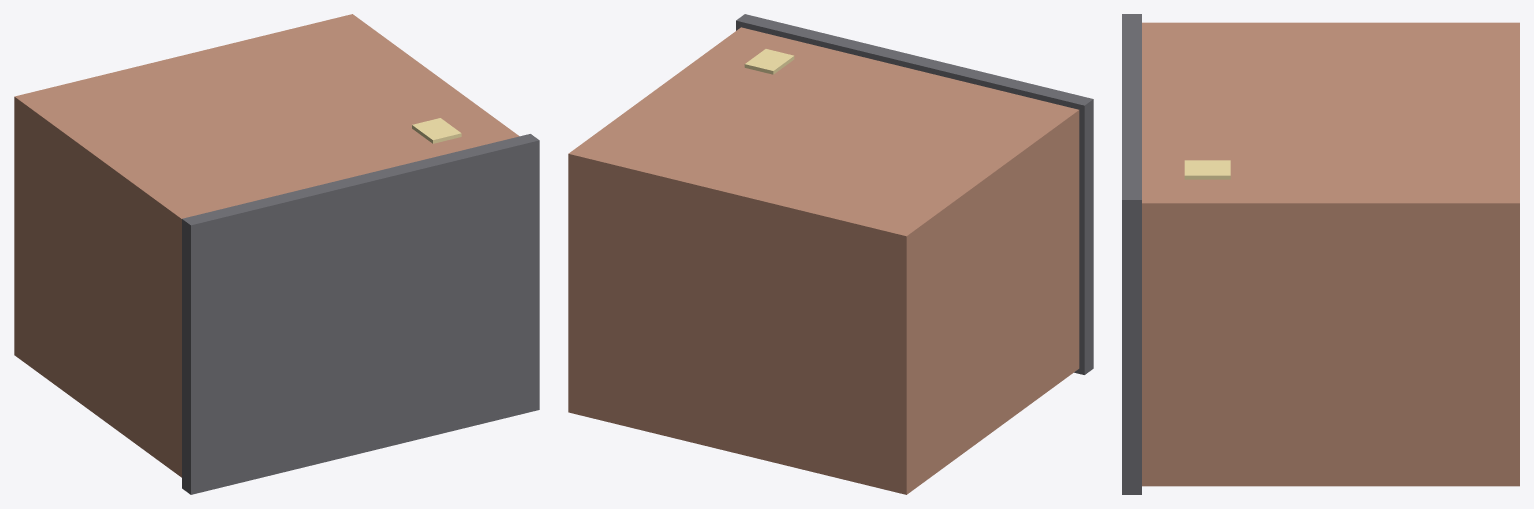
Rendered from building_brick_shop.glb.
3 renders of one model, left to right at view 1: azimuth 30°, elevation 25°; view 2: azimuth 150°, elevation 25°; view 3: azimuth 270°, elevation 25°, orthographic. The views are drawn at different scales.
Visible parts, largest first — view 1: roof_cap, building_body, window; view 2: building_body, roof_cap, window; view 3: building_body, roof_cap, window.
Part boxes in pixels (x1,y1,x2,y2): roof_cap: [182, 134, 539, 494]; building_body: [14, 14, 519, 477]; window: [412, 118, 461, 143]; building_body: [568, 27, 1079, 494]; roof_cap: [736, 14, 1093, 374]; window: [744, 49, 794, 74]; building_body: [1142, 22, 1519, 486]; roof_cap: [1122, 14, 1141, 494]; window: [1184, 160, 1230, 179].
Bounding box in the file's own units: 2.68 × 1.98 × 2.42.
